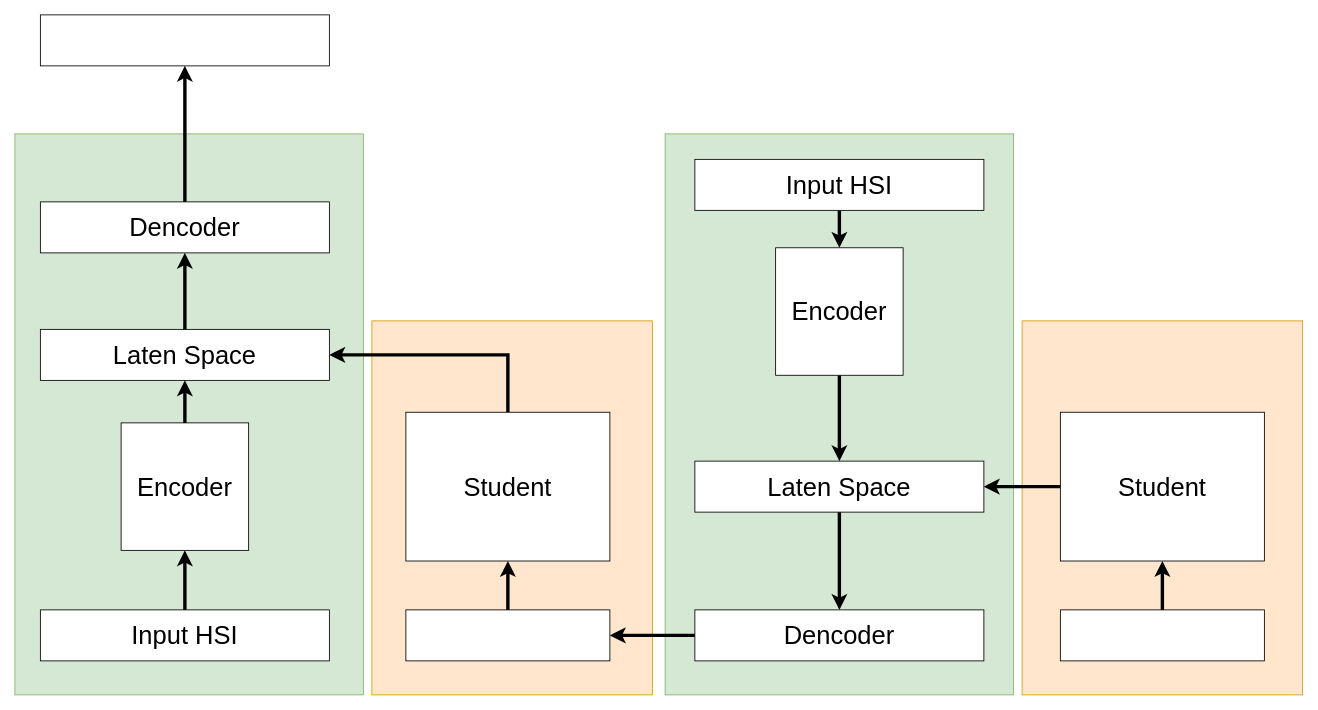
Some shapes in this 1318 by 710 pixel diagram are drawn without their labels. The shapes that lost their labels are listed below. From the top down, each one's centre as x and y in pixels, then its label:
At point (184, 40): "Output HSI-Cube".
At point (507, 635): "Input MSI".
At point (1162, 635): "Input RGB".
